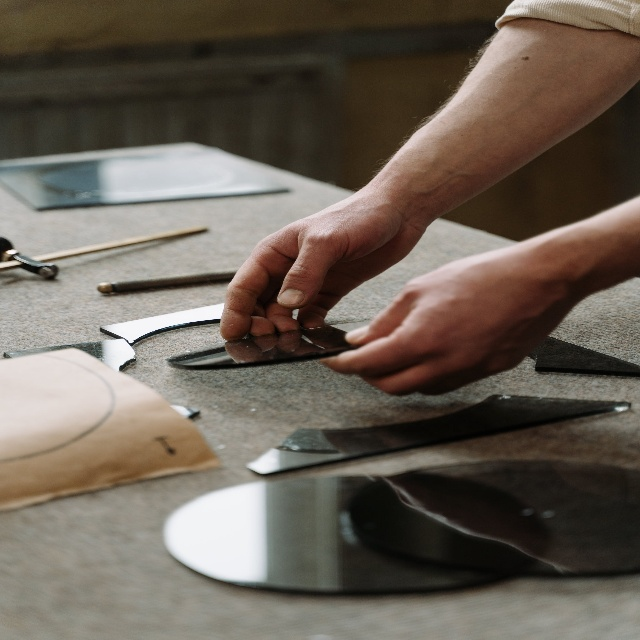Sin_guantes: (318, 229, 575, 396), (218, 187, 424, 342)
